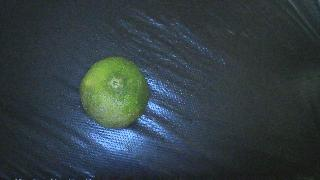DESECHO: (79, 57, 150, 128)
